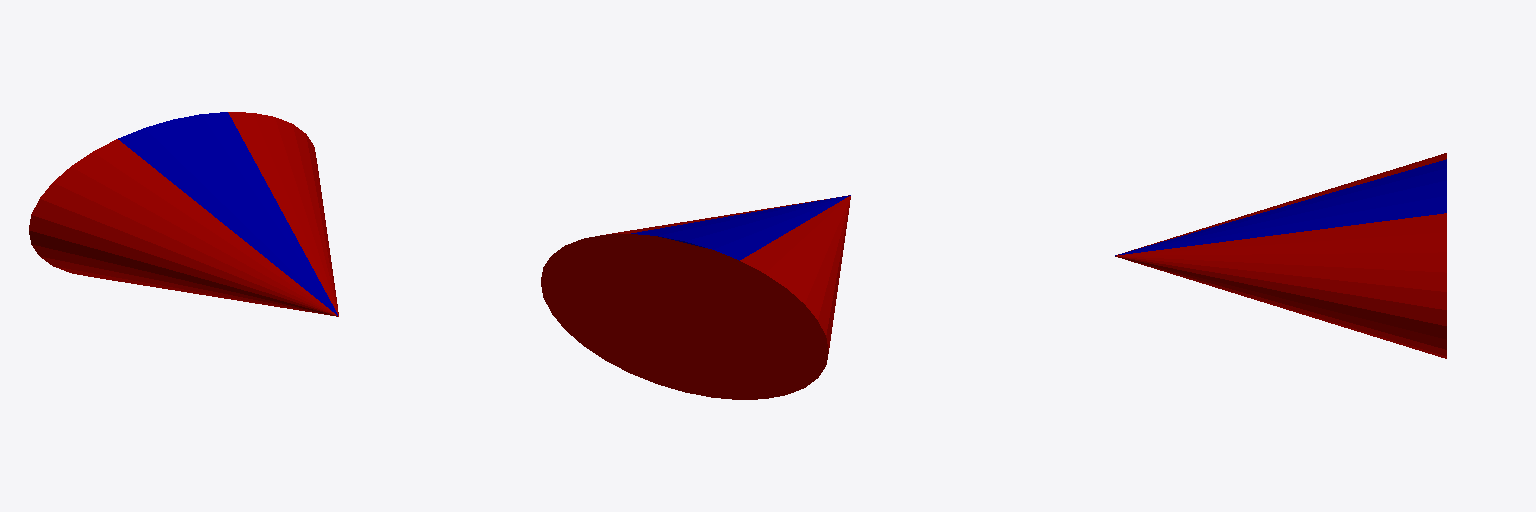
File: ship.obj
3 renders of one model, left to right at view 1: azimuth 30°, elevation 25°; view 2: azimuth 150°, elevation 25°; view 3: azimuth 270°, elevation 25°, orthographic.
Visible parts, largest first — view 1: Cone; view 2: Cone; view 3: Cone.
Boxes of the visible parts, <box> form: Cone: <box>29,112,338,316</box>; Cone: <box>541,195,850,399</box>; Cone: <box>1115,153,1446,358</box>.
Bounding box in the file's own units: 2 × 1 × 2.